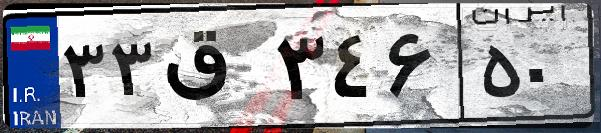0: (525, 38, 570, 115)
3: (270, 28, 330, 110), (57, 26, 110, 100), (110, 28, 158, 98)
4: (330, 28, 385, 110)
5: (475, 38, 525, 113)
6: (385, 28, 445, 110)
ق: (158, 20, 270, 120)
